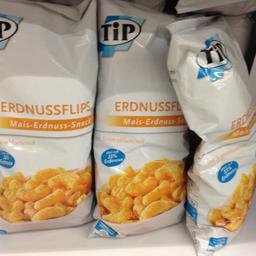chips: (0, 0, 95, 231), (96, 0, 190, 233), (170, 20, 252, 254)
